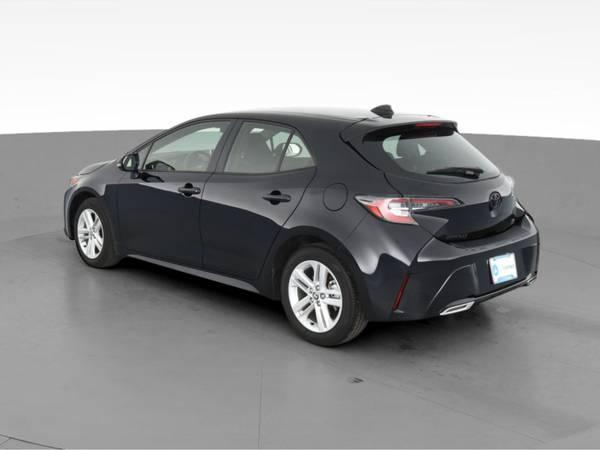Front_Fender: (62, 164, 125, 253)
Front_Left_Door: (112, 169, 207, 275)
Front_Left_Window: (124, 119, 234, 171)
Left_Taillight: (353, 192, 462, 225)
Rear_Bumper: (340, 213, 540, 318)
Rear_Fender: (282, 187, 381, 247)
Rear_Left_Door: (196, 166, 314, 300)
Rear_Left_Window: (212, 119, 314, 175)
Rear_Windshield: (370, 123, 506, 181)
Roof: (184, 104, 453, 196)
Tailgate: (384, 172, 523, 243)
Wheel: (278, 241, 364, 343), (72, 199, 122, 268)
